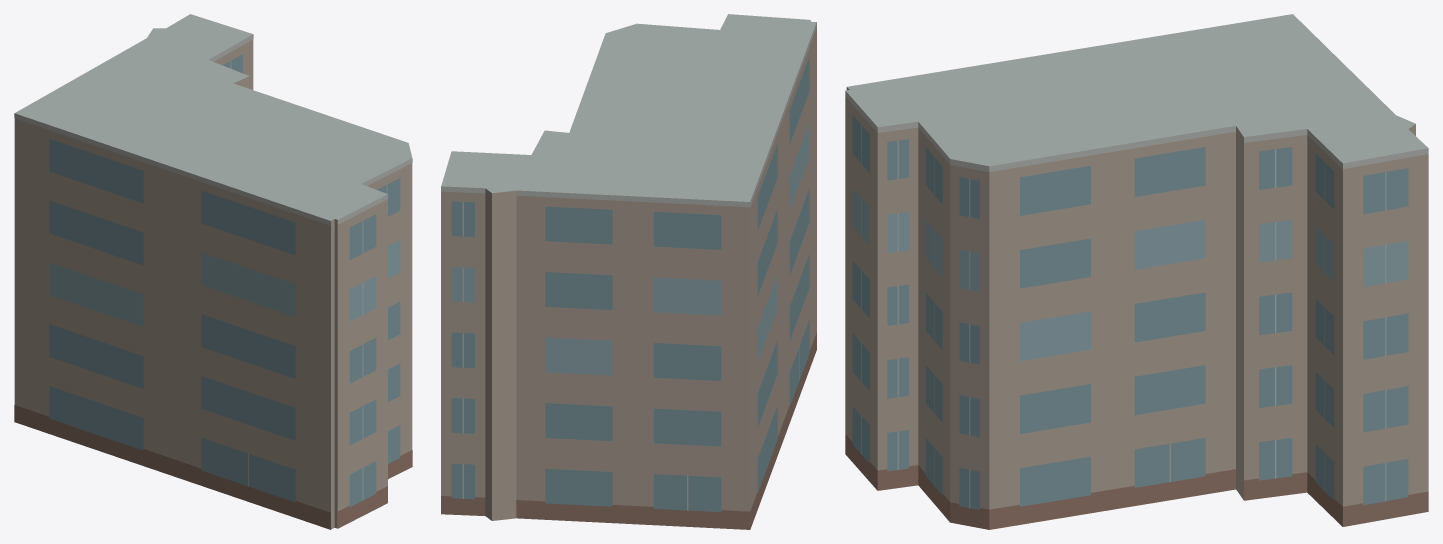
Rendered from survey-upis-32592873.glb.
The picture shows the model from 3 angles, left to right: view 1: azimuth 30°, elevation 25°; view 2: azimuth 150°, elevation 25°; view 3: azimuth 270°, elevation 25°; orthographic projection. The views are drawn at different scales.
Visible parts, largest first — view 1: survey-upis-32592873.tmp; view 2: survey-upis-32592873.tmp; view 3: survey-upis-32592873.tmp.
Part boxes in pixels (x1=…): survey-upis-32592873.tmp: x1=14, y1=14, x2=412, y2=529; survey-upis-32592873.tmp: x1=441, y1=14, x2=816, y2=529; survey-upis-32592873.tmp: x1=845, y1=14, x2=1428, y2=529.
Bounding box in the file's own units: 13.71 × 15.25 × 22.19.
